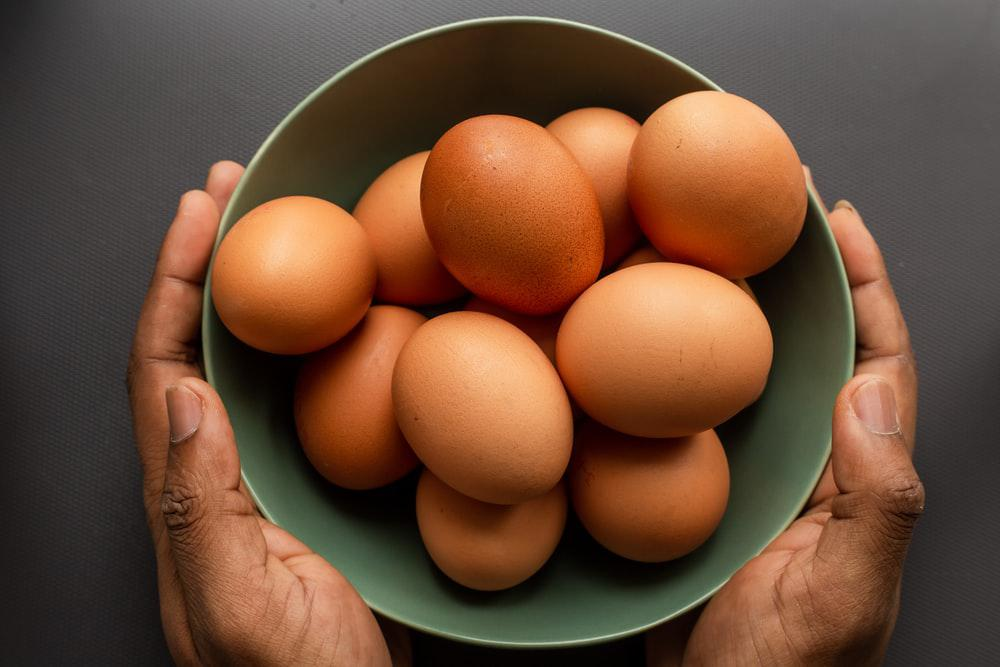egg: (551, 261, 777, 439), (419, 111, 608, 320), (388, 309, 579, 508), (623, 88, 810, 279), (288, 297, 441, 495), (204, 192, 381, 356), (566, 418, 737, 566)
